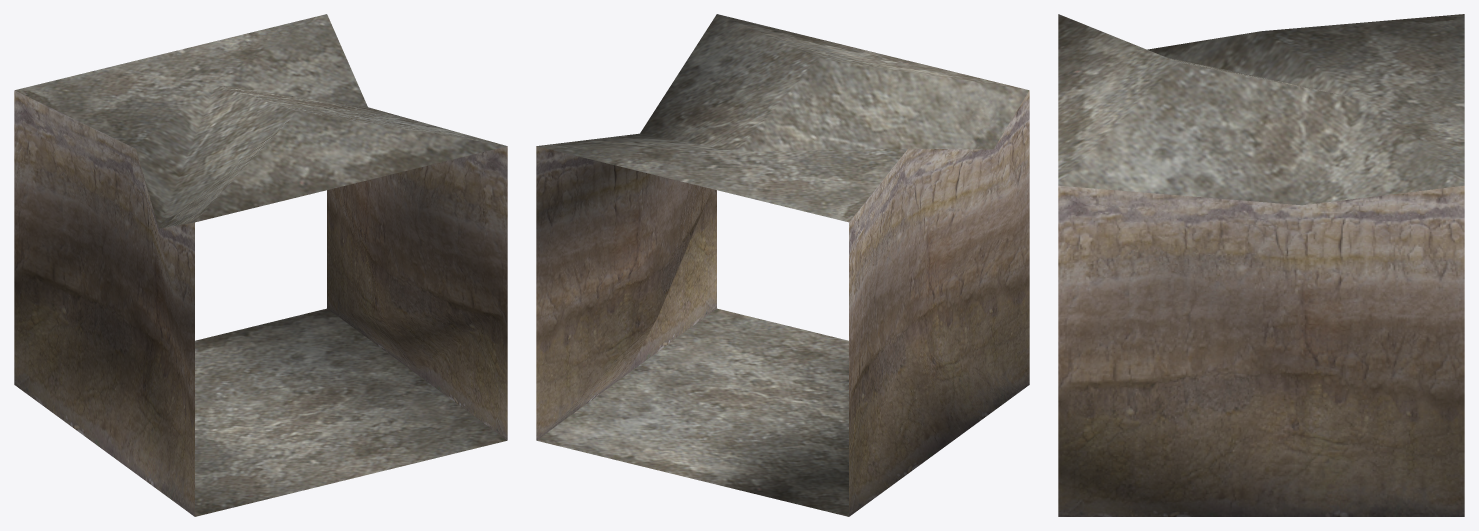
Rendered from hallTileds.obj.
3 renders of one model, left to right at view 1: azimuth 30°, elevation 25°; view 2: azimuth 150°, elevation 25°; view 3: azimuth 270°, elevation 25°, orthographic. The views are drawn at different scales.
Visible parts, largest first — view 1: stile001; view 2: stile001; view 3: stile001.
Boxes of the visible parts, bbox=[...] form: stile001: bbox=[14, 14, 507, 516]; stile001: bbox=[536, 14, 1029, 516]; stile001: bbox=[1058, 14, 1464, 516].
Bounding box in the file's own units: 1 × 1 × 1.
Materials: 1 (1 with a texture image).
